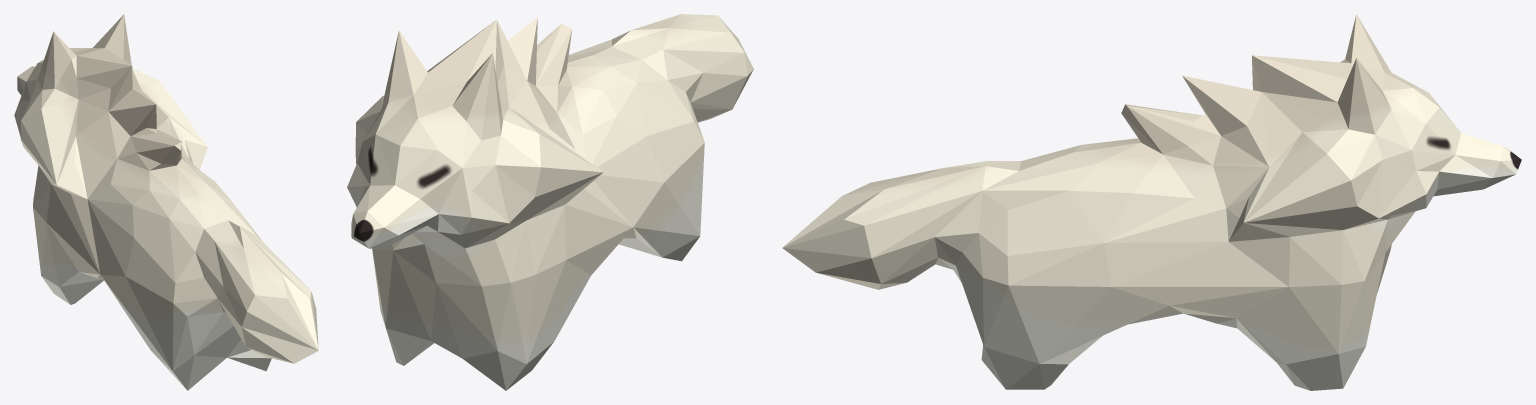
File: animal_wolf_arctic_blob.obj
3 renders of one model, left to right at view 1: azimuth 30°, elevation 25°; view 2: azimuth 150°, elevation 25°; view 3: azimuth 270°, elevation 25°, orthographic. The views are drawn at different scales.
Parts seen in each view (by area): view 1: animal_wolf_arctic_blob; view 2: animal_wolf_arctic_blob; view 3: animal_wolf_arctic_blob.
Part boxes in pixels (x1,y1,x2,y2): animal_wolf_arctic_blob: (14, 14, 318, 390); animal_wolf_arctic_blob: (347, 14, 753, 390); animal_wolf_arctic_blob: (782, 14, 1521, 390).
Bounding box in the file's own units: 0.45 × 0.7382 × 1.51.
